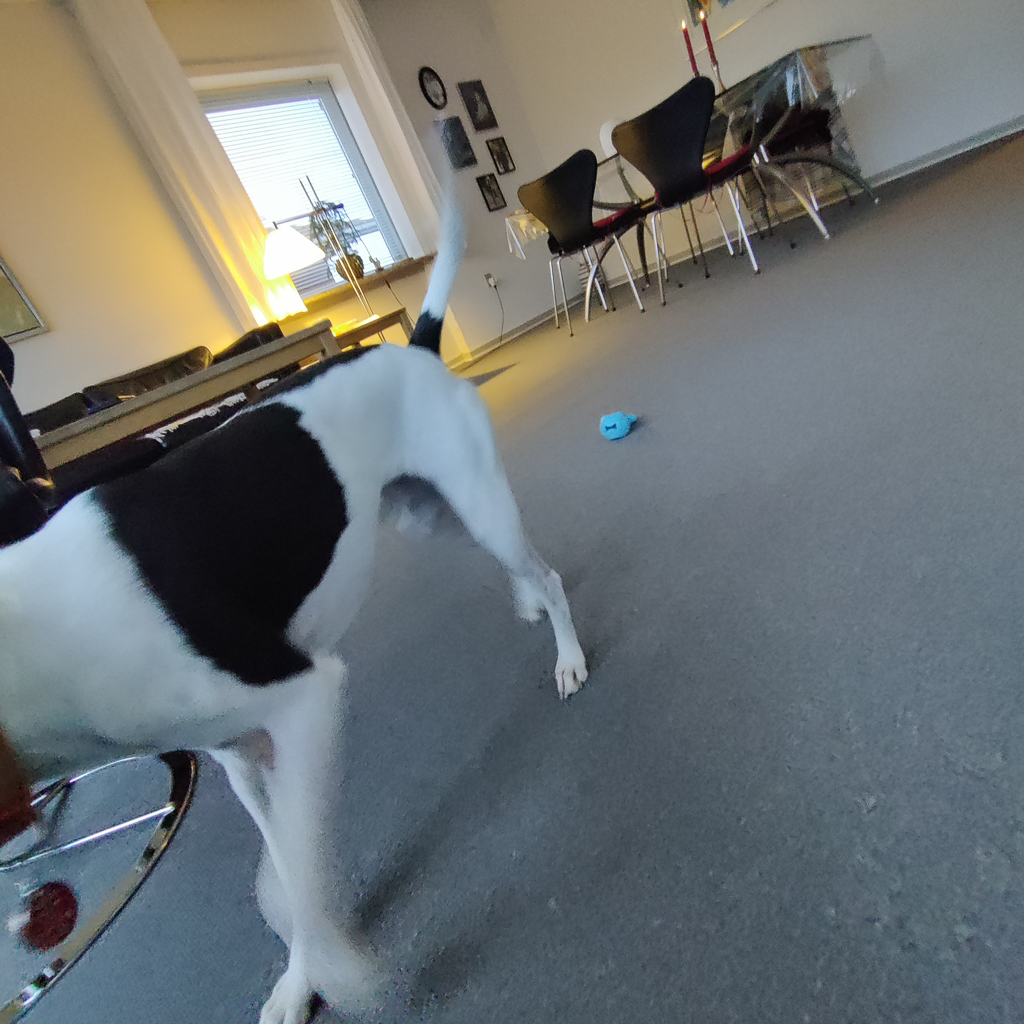Dog: (0, 121, 616, 1024)
